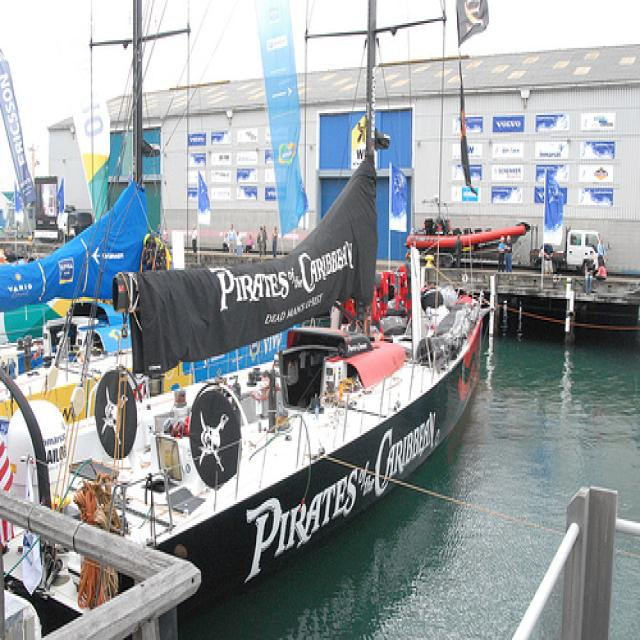boat: (1, 166, 493, 599), (1, 172, 294, 434), (404, 198, 530, 275)
